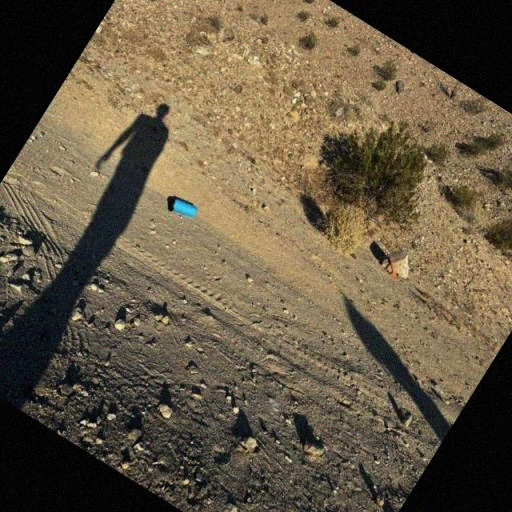bottle: (161, 190, 201, 224)
mallet: (378, 252, 406, 281)
